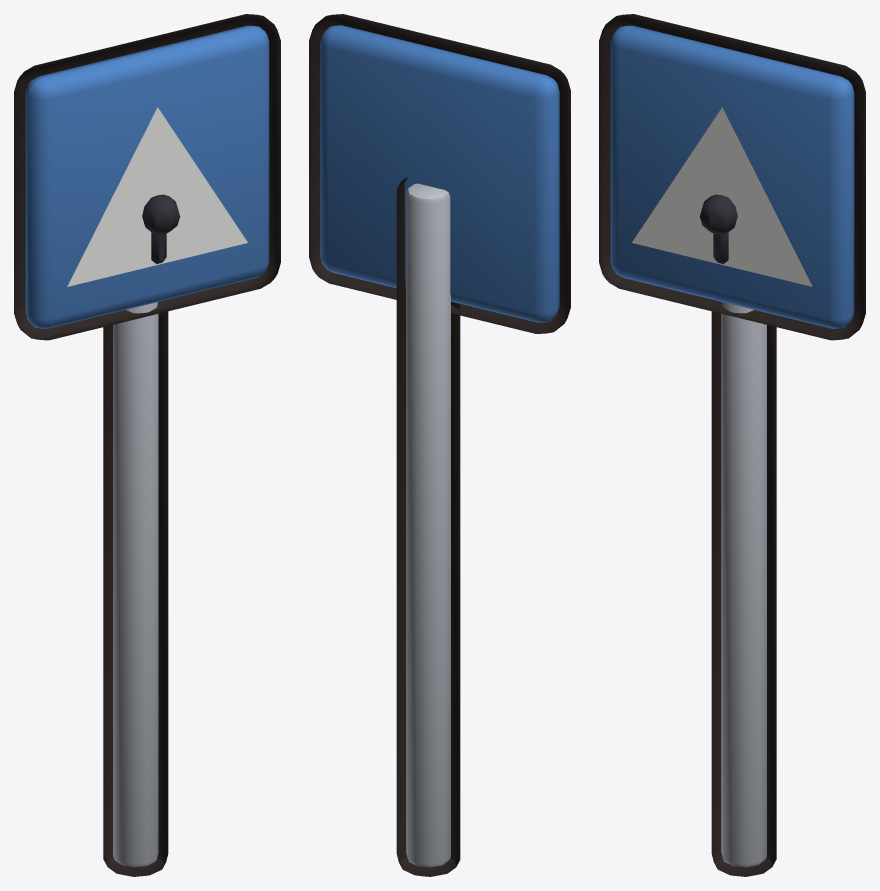
The model's file is CrossSign.fbx.
The picture shows the model from 3 angles, left to right: view 1: azimuth 30°, elevation 25°; view 2: azimuth 150°, elevation 25°; view 3: azimuth 330°, elevation 25°; orthographic projection.
Visible parts, largest first — view 1: PR_CrossSign_AwningBlue, PR_CrossSign_MetalLight, PR_CrossSign_Outline, PR_CrossSign_White, PR_CrossSign_Black; view 2: PR_CrossSign_AwningBlue, PR_CrossSign_MetalLight, PR_CrossSign_Outline; view 3: PR_CrossSign_AwningBlue, PR_CrossSign_MetalLight, PR_CrossSign_Outline, PR_CrossSign_White, PR_CrossSign_Black.
Part boxes in pixels (x1,y1,x2,y2): PR_CrossSign_AwningBlue: [25, 25, 269, 328]; PR_CrossSign_MetalLight: [113, 302, 158, 867]; PR_CrossSign_Outline: [14, 14, 280, 876]; PR_CrossSign_White: [67, 107, 247, 286]; PR_CrossSign_Black: [142, 194, 180, 263]; PR_CrossSign_AwningBlue: [320, 25, 559, 322]; PR_CrossSign_MetalLight: [406, 183, 450, 867]; PR_CrossSign_Outline: [309, 14, 570, 876]; PR_CrossSign_AwningBlue: [610, 25, 854, 328]; PR_CrossSign_MetalLight: [721, 302, 766, 867]; PR_CrossSign_Outline: [599, 14, 865, 876]; PR_CrossSign_White: [632, 107, 812, 286]; PR_CrossSign_Black: [699, 194, 737, 263].
Size of the model in its own units: 1.03 by 3.17 by 0.3543.
